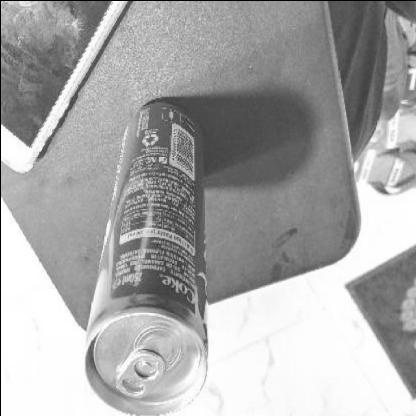alumunium_can: (82, 96, 208, 416)
